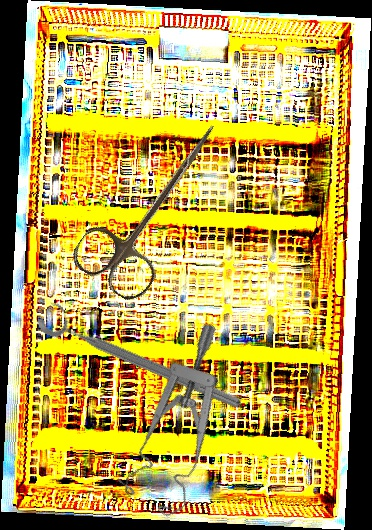Fixation Ring: (34, 297, 249, 415)
Iris Scissors: (67, 100, 244, 307)
Speculum: (87, 320, 286, 528)
